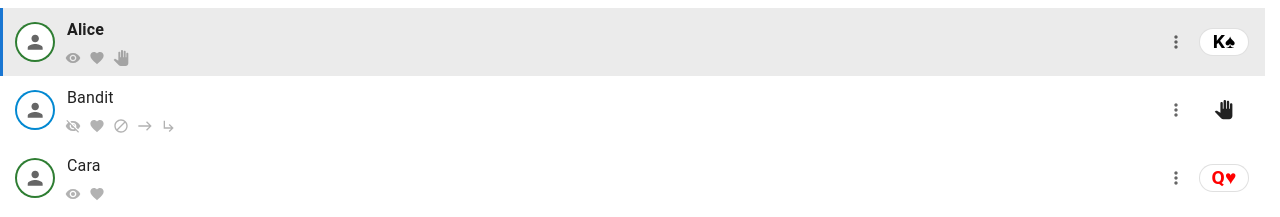
Test: ParticipantRow rename keeps keyboard focus (R4-A6) › clicking another control does not pull focus back
What coordinates should you click on to do the following:
click the button with aria-label "Rename Cara"
I would click on:
 (84, 166)
Its box is [67,156,100,175].
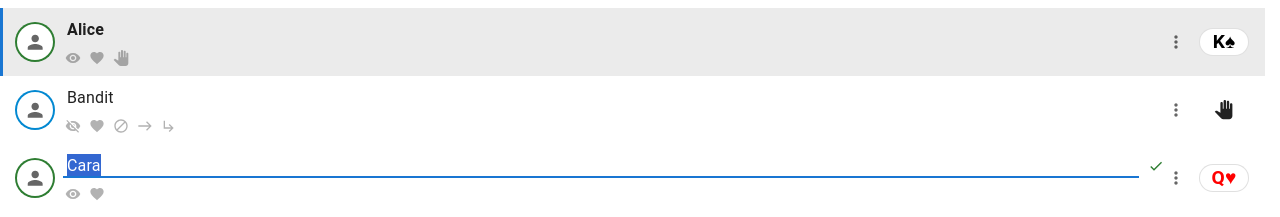
What coordinates should you click on to do the following:
click the button with aria-label "Rename Alice"
I would click on:
 (86, 30)
Its box is [67,20,104,39].
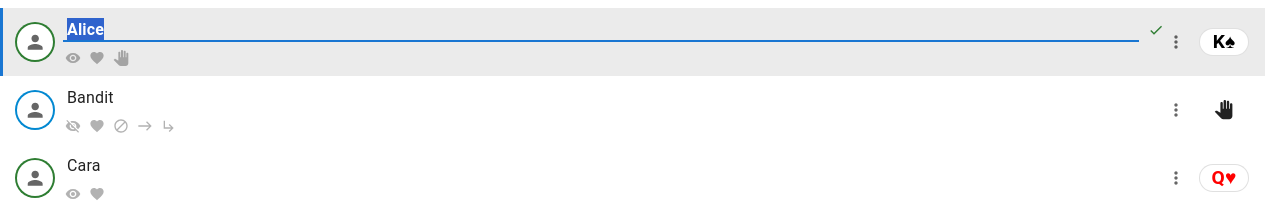
Check: the field named "Name" holds "Alice", box [63,18,1139,42]
